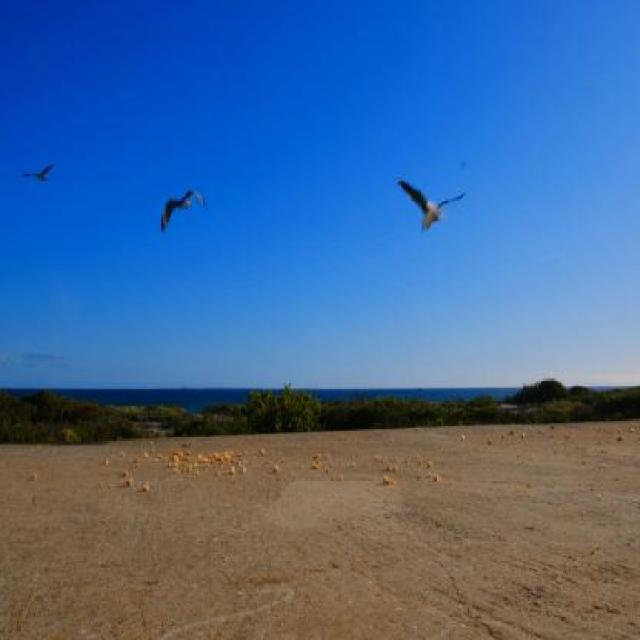bird: (389, 165, 471, 243), (151, 178, 209, 245), (16, 160, 59, 194)
